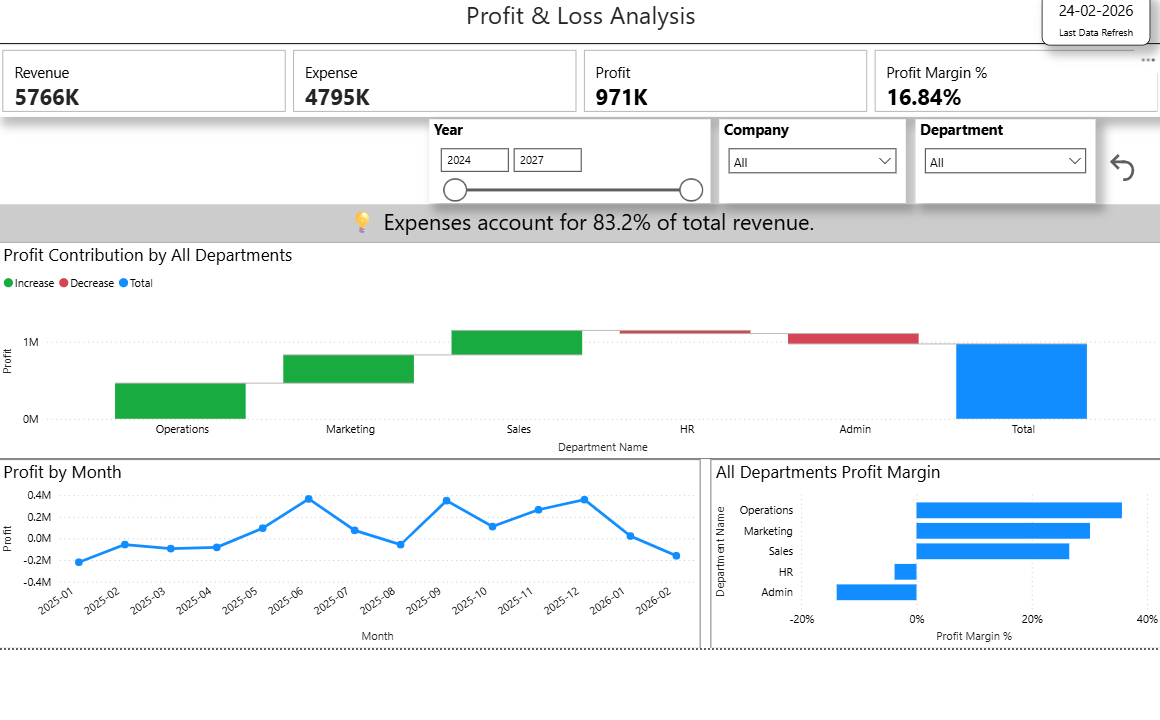

Layout of this report page (visuals, bound fields, positions):
{"tool":"powerbi","page":{"name":"Profit & Loss Analysis","canvas":[1280,720],"ordinal":1},"visuals":[{"type":"cardVisual","title":"T","fields":{"Data":["Measure.Total Revenue","Measure.Total Expense","Measure.Profit","Measure.Profit Margin %"]},"box":[0,57.6,1280.3,78.2],"z":0},{"type":"waterfallChart","fields":{"Category":["Dim_Department.Department_Name"],"Y":["Measure.Profit"]},"box":[0,273.1,1280,238.8],"z":1000},{"type":"textbox","box":[0,0,1280,56],"z":2000},{"type":"clusteredBarChart","fields":{"Category":["Dim_Department.Department_Name"],"Y":["Measure.Profit Margin %"]},"box":[782.5,512.5,497.6,207.7],"z":3000},{"type":"lineChart","title":"Profit by Month","fields":{"Category":["Dim_Date.YearMonth"],"Y":["Measure.Profit"]},"box":[0,512.5,771.3,207.7],"z":4000},{"type":"card","fields":{"Values":["Measure.Last Data Refresh"]},"box":[1145.7,0,119.4,57.2],"z":5000},{"type":"card","fields":{"Values":["Measure.P&L Insight"]},"box":[0,231.9,1280,41.2],"z":6000},{"type":"slicer","title":"Year","fields":{"Values":["Dim_Date.Year"]},"box":[473.4,138.6,308.7,91.9],"z":7000},{"type":"slicer","title":"Company","fields":{"Values":["Dim_Company.Company_Name"]},"box":[791.8,138.6,204.5,91.9],"z":8000},{"type":"slicer","title":"Department","fields":{"Values":["Dim_Department.Department_Name"]},"box":[1007.2,138.6,197.6,91.9],"z":9000},{"type":"actionButton","box":[1214.4,171.5,53.5,39.8],"z":10000}]}

Visuals, with their boxes on the page's 1280x720 design canvas (x1, y1, x2, y2). These are canvas units, not pixel positions in the 1160x720 screenshot, which may show the page scaled, cropped or inside an application window:
"T" cardVisual: Rect(0, 58, 1280, 136)
waterfallChart - Dim_Department.Department_Name x Measure.Profit: Rect(0, 273, 1280, 512)
textbox: Rect(0, 0, 1280, 56)
clusteredBarChart - Dim_Department.Department_Name x Measure.Profit Margin %: Rect(782, 512, 1280, 720)
"Profit by Month" lineChart: Rect(0, 512, 771, 720)
card - Measure.Last Data Refresh: Rect(1146, 0, 1265, 57)
card - Measure.P&L Insight: Rect(0, 232, 1280, 273)
"Year" slicer: Rect(473, 139, 782, 230)
"Company" slicer: Rect(792, 139, 996, 230)
"Department" slicer: Rect(1007, 139, 1205, 230)
actionButton: Rect(1214, 172, 1268, 211)
